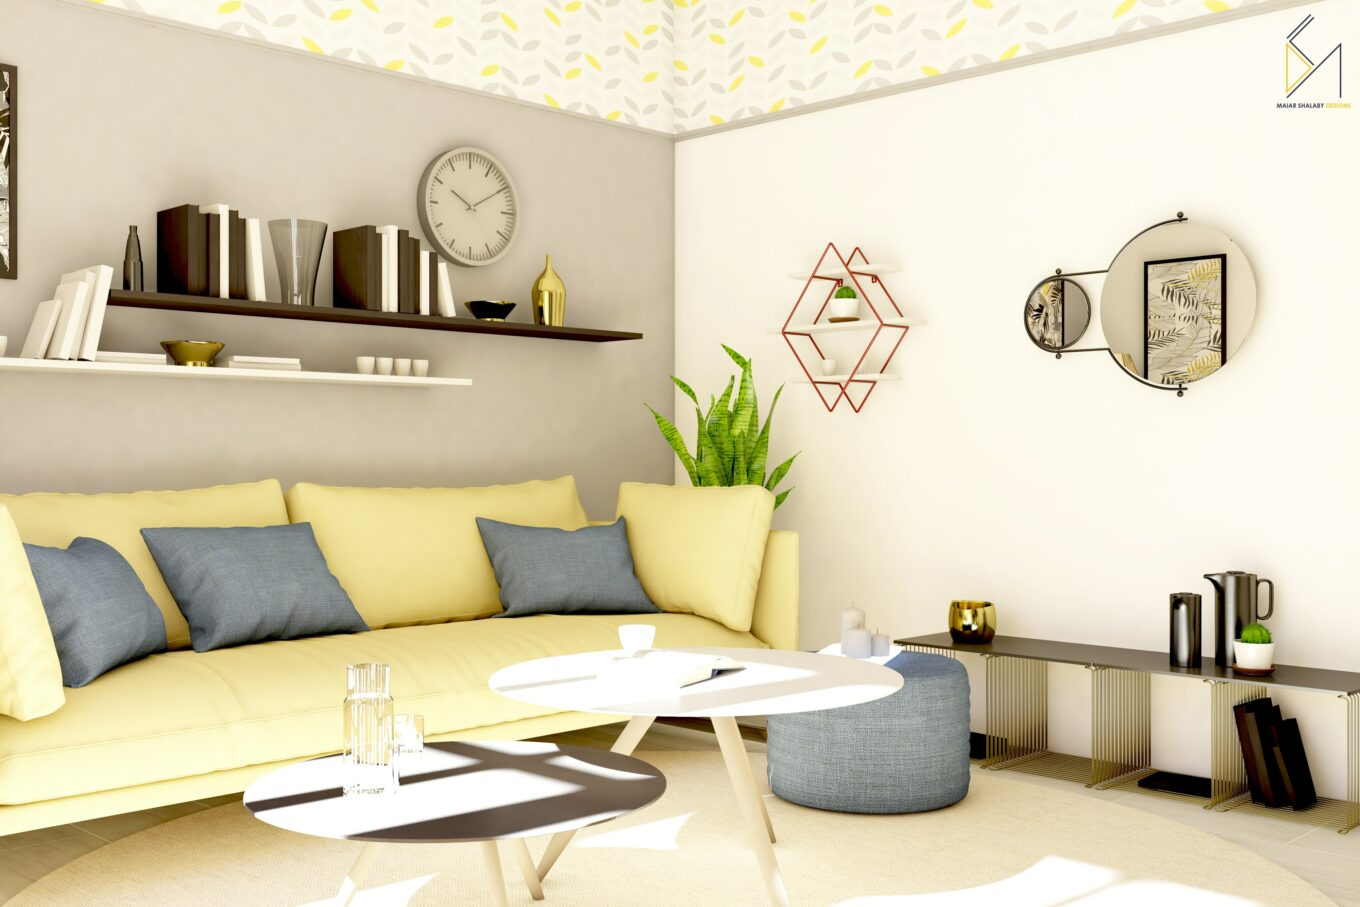bantal: (164, 525, 368, 637), (25, 537, 172, 667), (485, 519, 652, 616)
buku: (330, 219, 459, 315), (155, 199, 272, 298), (33, 264, 116, 358)
gelas: (616, 620, 659, 656), (412, 356, 433, 376), (354, 356, 377, 374), (395, 356, 412, 378), (377, 356, 395, 374)
jam dinding: (429, 140, 516, 275)
meja: (493, 654, 890, 907), (244, 756, 677, 904)
sova: (4, 480, 800, 789)
tanaman: (649, 344, 802, 489), (1231, 621, 1277, 676), (828, 283, 865, 324)
